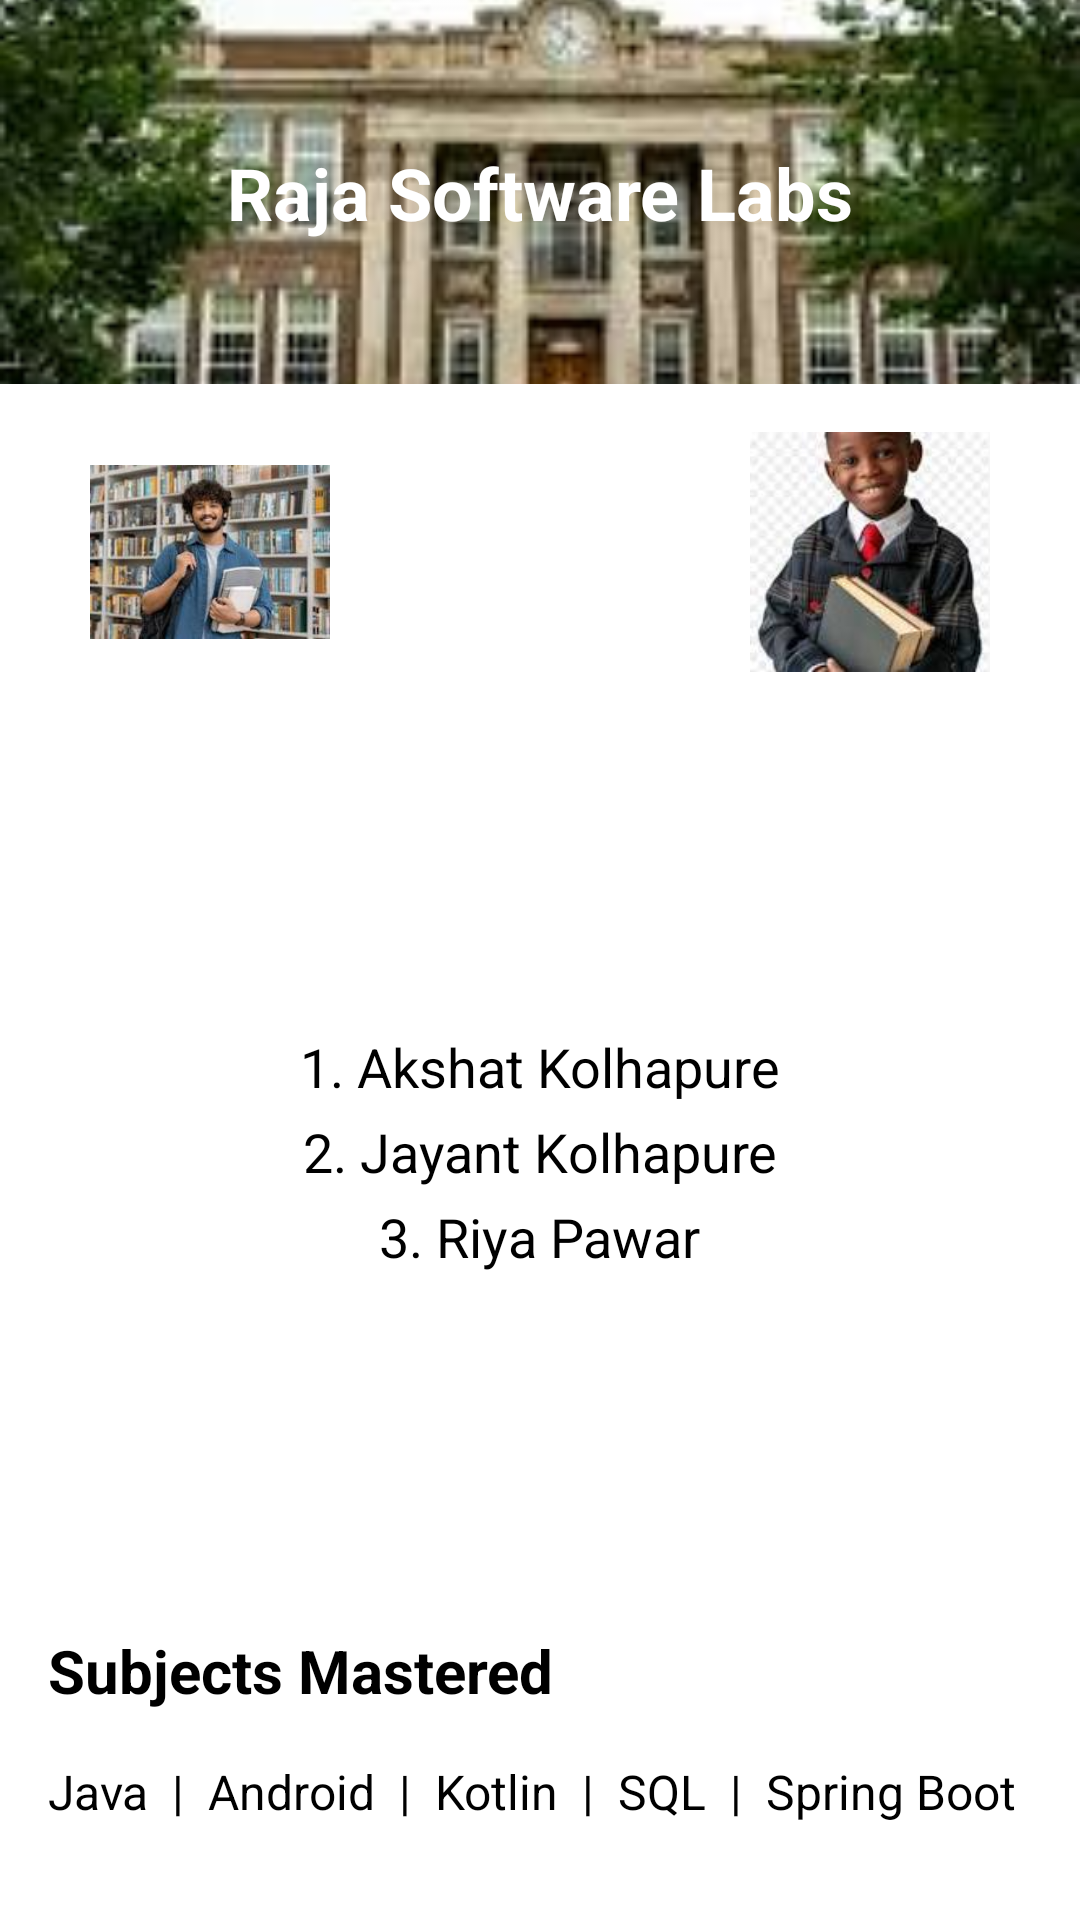

Screen size 1080px×1920px. Icon name, then its center in pixels as (x,y):
stu: (210,552)
student: (867,552)
